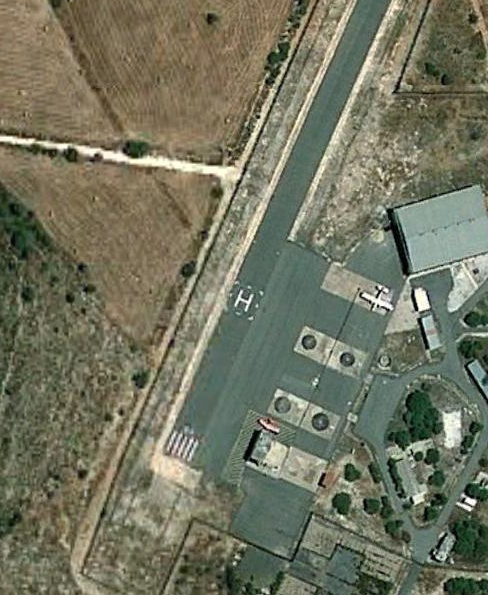heliport: (229, 286, 256, 312)
